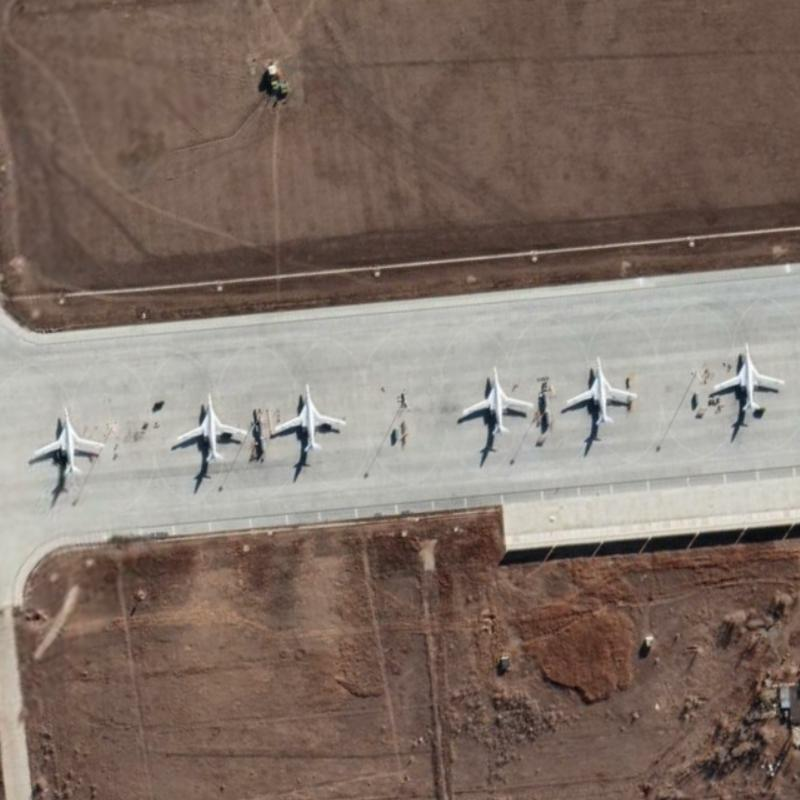A6: (174, 389, 251, 463), (709, 339, 786, 412), (271, 380, 347, 453), (459, 363, 534, 436), (30, 405, 105, 477), (564, 354, 639, 426)
